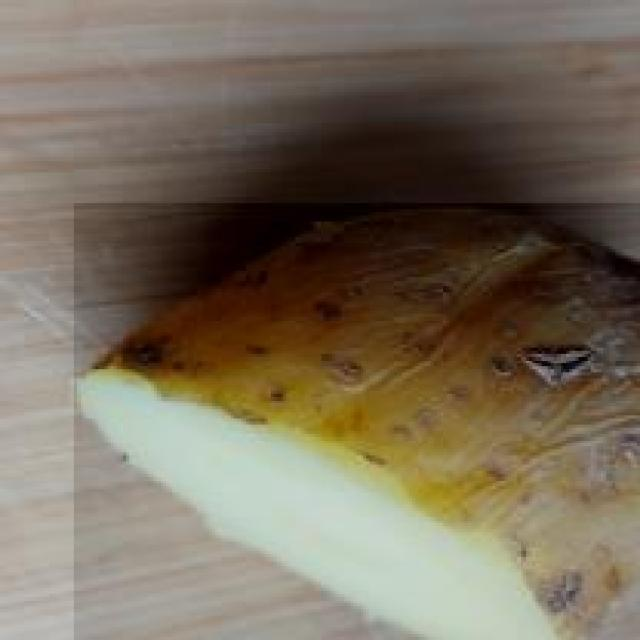potato: (67, 200, 640, 640)
